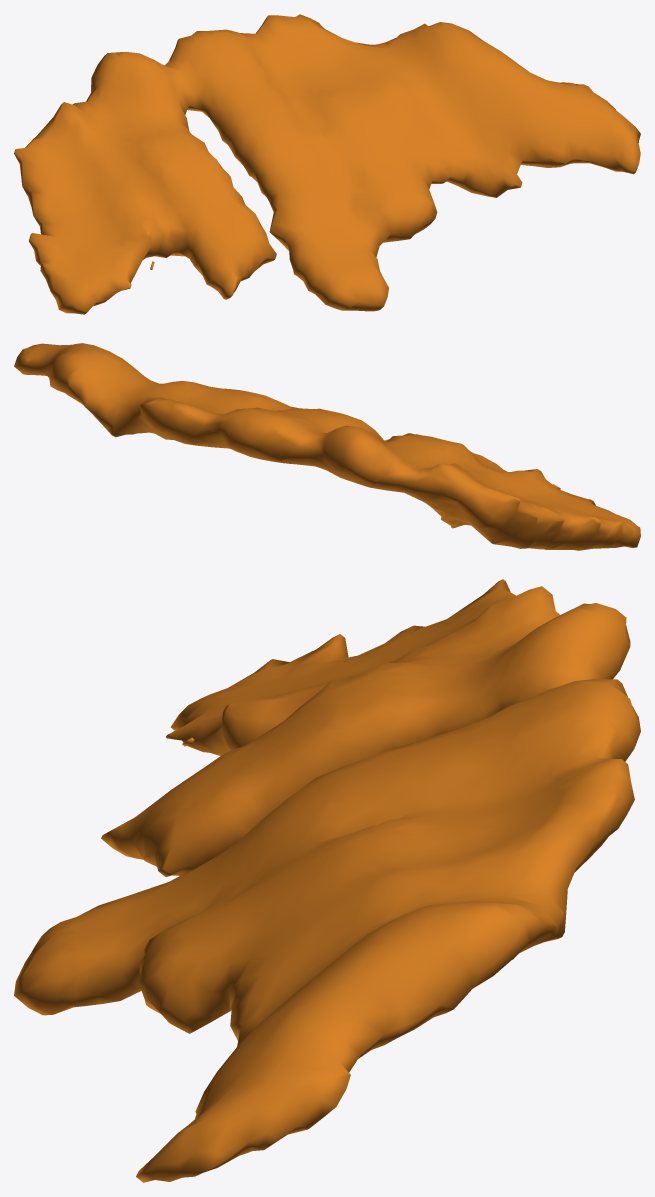
File: chickenChop.glb
The picture shows the model from 3 angles, top to bottom: view 1: azimuth 30°, elevation 25°; view 2: azimuth 150°, elevation 25°; view 3: azimuth 270°, elevation 25°; orthographic projection. The views are drawn at different scales.
Visible parts, largest first — view 1: 雞排1.002; view 2: 雞排1.002; view 3: 雞排1.002.
Boxes of the visible parts, left/top/right/bottom form: 雞排1.002: left=14, top=14, right=640, bottom=314; 雞排1.002: left=14, top=343, right=640, bottom=550; 雞排1.002: left=14, top=579, right=640, bottom=1182.
Size of the model in its own units: 1.01 by 0.2884 by 0.518.
